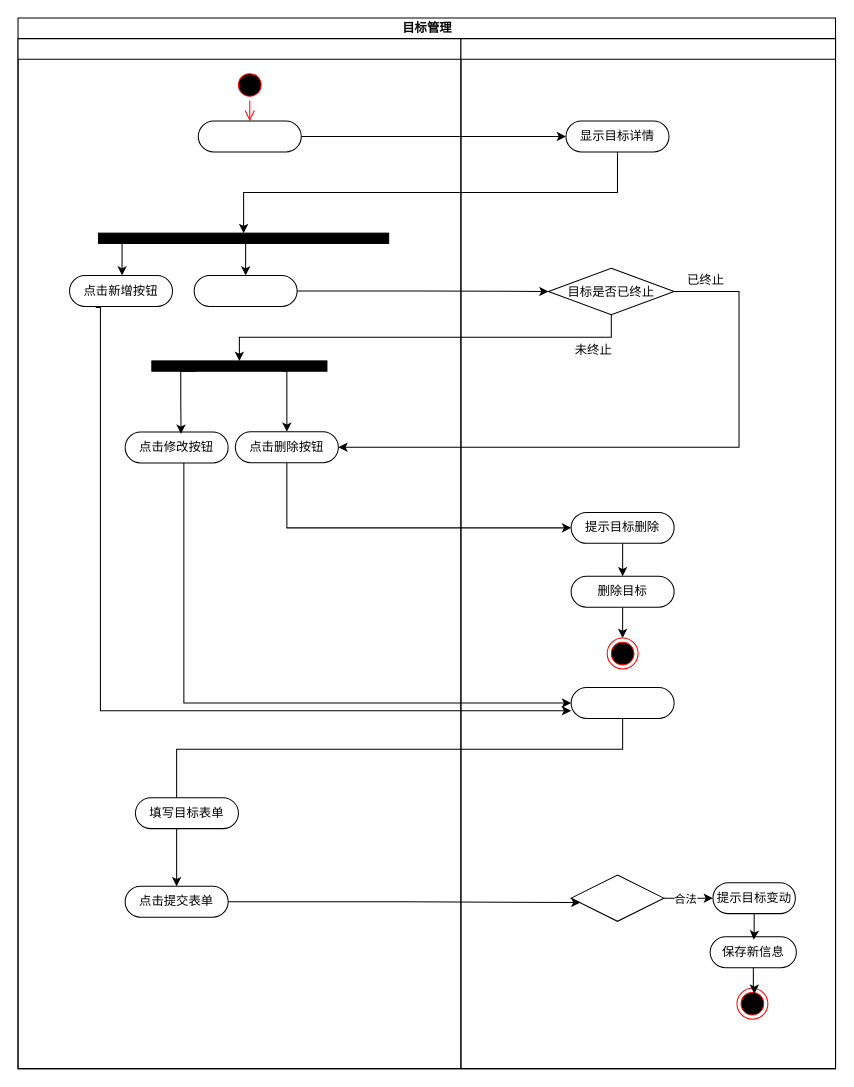
Some shapes in this 854 by 1087 pixel diagram are drawn without their labels. Here are the shapes that lost their labels. From the top down, the box of each, then its label:
(197, 120, 301, 152): 进入目标管理页面
(193, 274, 297, 306): 选中一条目标信息
(17, 38, 461, 1069): 用户
(460, 38, 836, 1069): 目标与通知子系统
(570, 686, 674, 718): 显示目标表单
(570, 874, 664, 921): 验证是否合法
